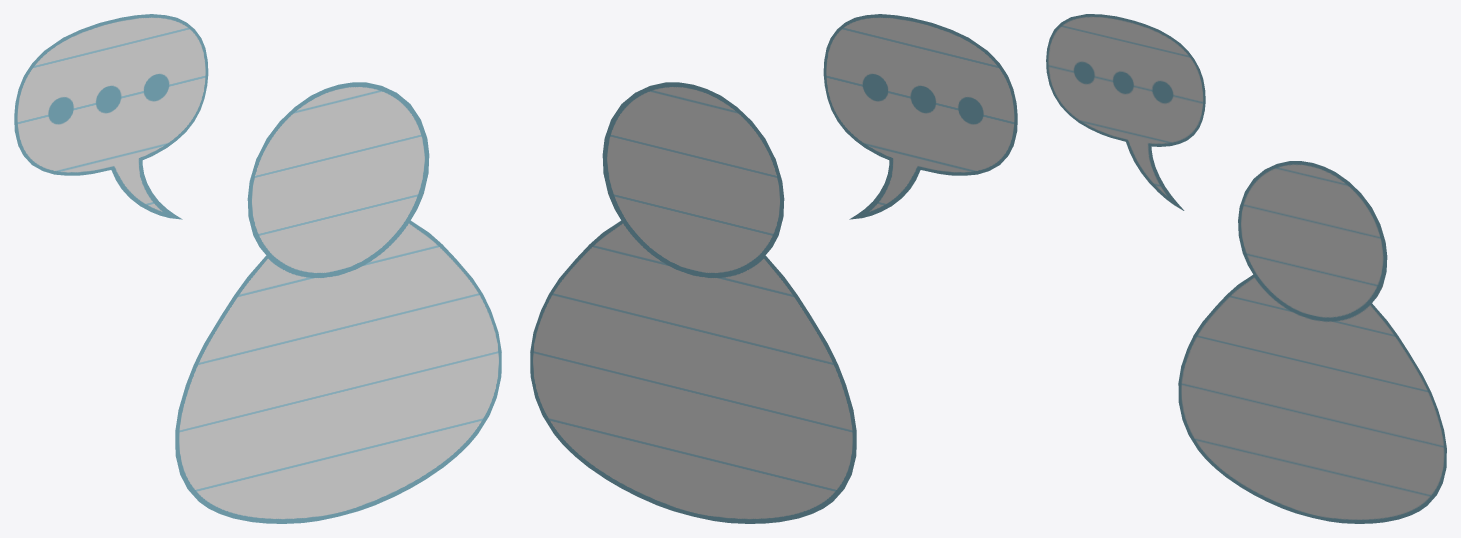
The model's file is paper_man.glb.
3 renders of one model, left to right at view 1: azimuth 30°, elevation 25°; view 2: azimuth 150°, elevation 25°; view 3: azimuth 330°, elevation 25°, orthographic. The views are drawn at different scales.
Parts seen in each view (by area): view 1: Cube.002, Cube.003; view 2: Cube.003, Cube.002; view 3: Cube.002, Cube.003.
Part boxes in pixels (<box>): Cube.002: <box>14,14,501,523</box>; Cube.003: <box>14,14,396,500</box>; Cube.003: <box>530,14,1017,523</box>; Cube.002: <box>635,14,1017,500</box>; Cube.002: <box>1046,14,1446,523</box>; Cube.003: <box>1063,14,1446,504</box>.
Bounding box in the file's own units: 6.96 × 7.53 × 0.00947.
1 material, 1 textured.
